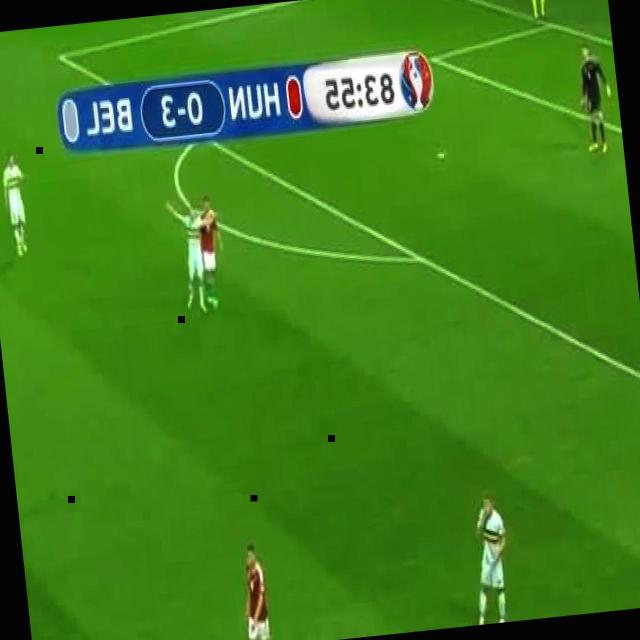player-white: (164, 196, 227, 316), (461, 494, 514, 626), (575, 45, 617, 156), (229, 543, 274, 640), (194, 195, 230, 308), (0, 151, 35, 257)
